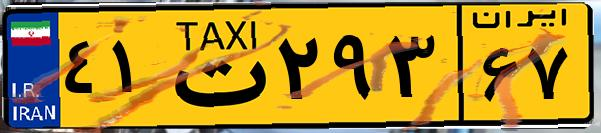1: (110, 28, 158, 98)
2: (270, 28, 330, 110)
3: (385, 28, 445, 110)
4: (57, 26, 110, 100)
6: (475, 38, 525, 113)
7: (525, 38, 570, 115)
9: (330, 28, 385, 110)
ت: (158, 12, 270, 120)
